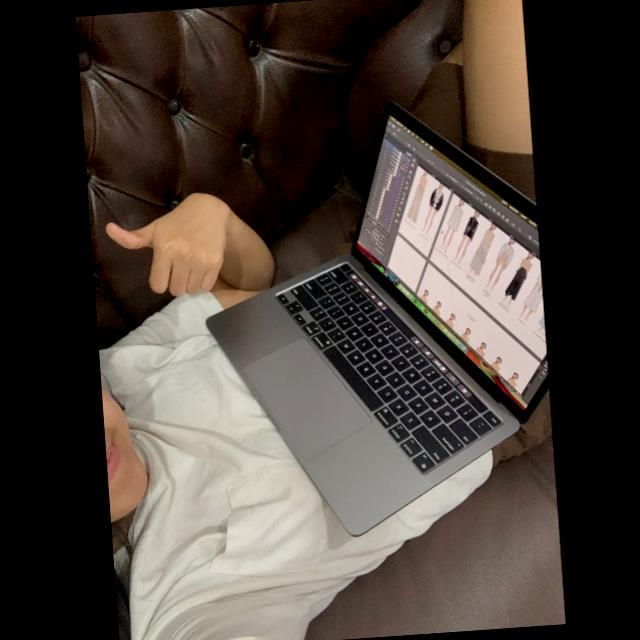laptop: (206, 103, 548, 534)
